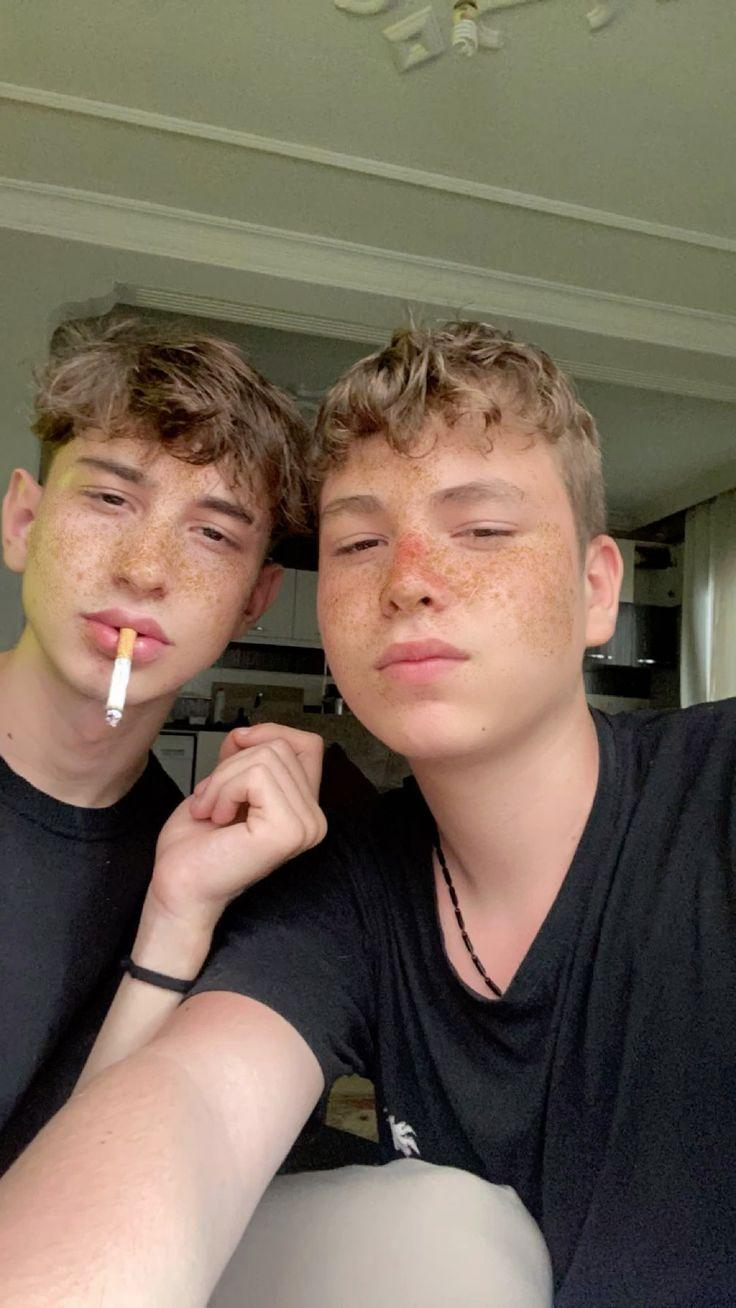cigarette: (103, 627, 138, 728)
